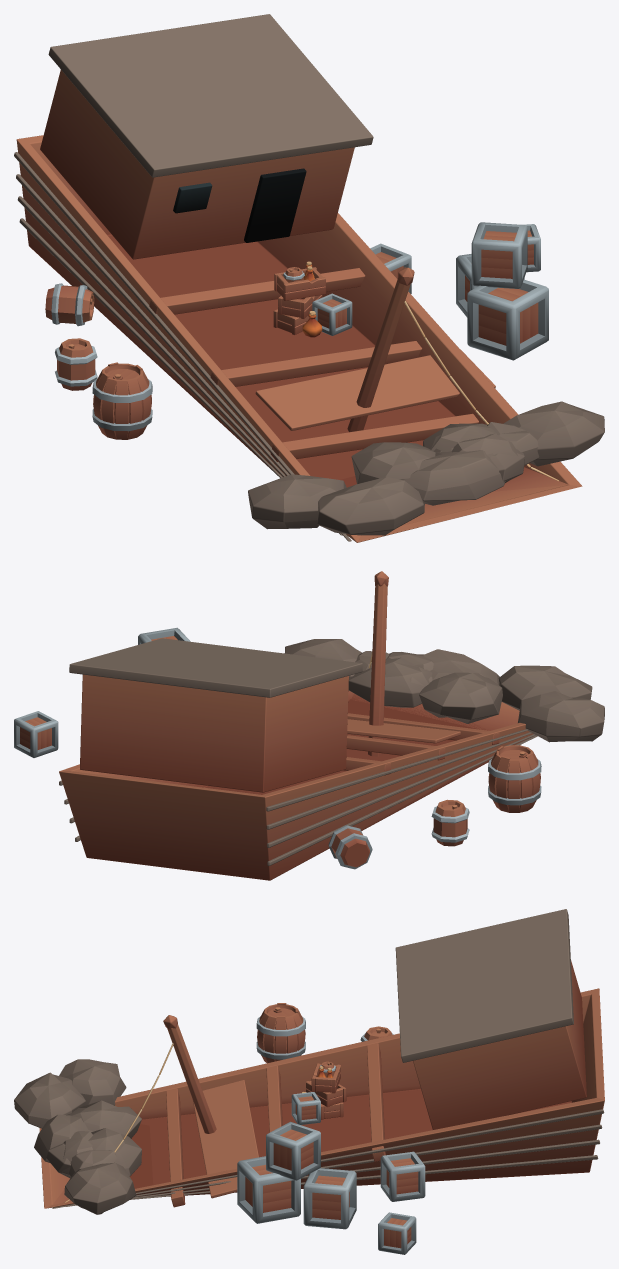
The model's file is sunken_barge.glb.
3 renders of one model, top to bottom at view 1: azimuth 30°, elevation 25°; view 2: azimuth 150°, elevation 25°; view 3: azimuth 270°, elevation 25°, orthographic. The views are drawn at different scales.
Visible parts, largest first — view 1: sunken_barge; view 2: sunken_barge; view 3: sunken_barge.
Part boxes in pixels (x1,y1,x2,y2): sunken_barge: [14, 14, 604, 542]; sunken_barge: [14, 571, 604, 880]; sunken_barge: [14, 909, 604, 1254].
Bounding box in the file's own units: 8.02 × 3.87 × 9.7.
2 materials, 2 textured.
